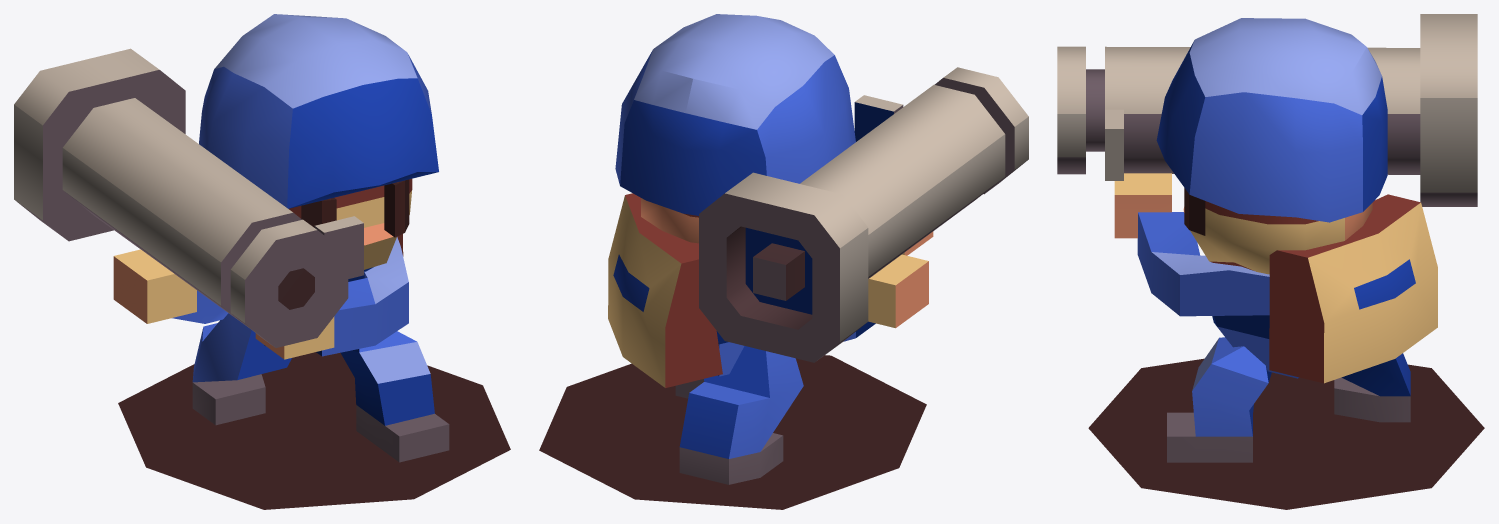
The model's file is MechMesh.CobaltIce.glb.
3 renders of one model, left to right at view 1: azimuth 30°, elevation 25°; view 2: azimuth 150°, elevation 25°; view 3: azimuth 270°, elevation 25°, orthographic.
Visible parts, largest first — view 1: MechMesh.CobaltIce; view 2: MechMesh.CobaltIce; view 3: MechMesh.CobaltIce.
Boxes of the visible parts, x1=… form: MechMesh.CobaltIce: x1=14, y1=14, x2=510, y2=509; MechMesh.CobaltIce: x1=539, y1=14, x2=1028, y2=509; MechMesh.CobaltIce: x1=1057, y1=14, x2=1484, y2=509.
Size of the model in its own units: 2.24 by 2.3 by 2.24.
Materials: 1 (1 with a texture image).
